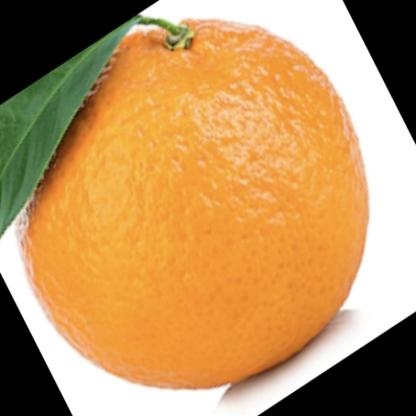fresh: (20, 20, 369, 388)
